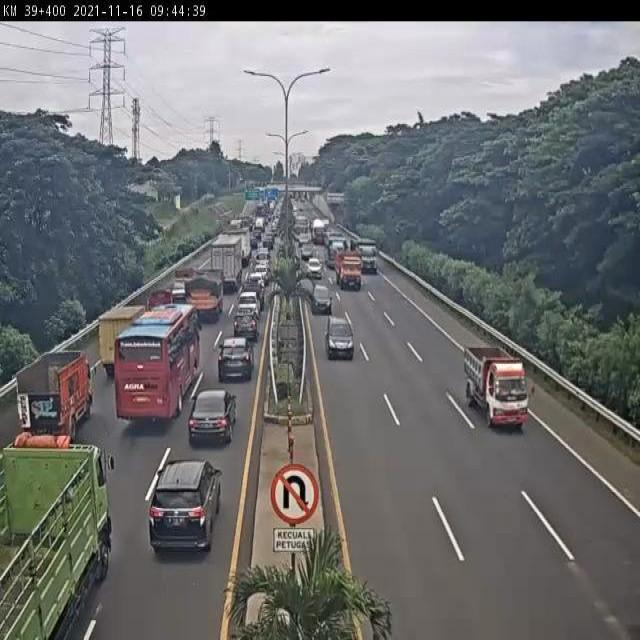big bus: (114, 307, 197, 420)
car: (150, 461, 219, 556), (188, 393, 234, 451), (216, 340, 254, 383), (326, 317, 355, 359), (233, 309, 257, 342), (309, 283, 331, 313), (243, 279, 264, 308), (237, 292, 259, 316)
small truck: (463, 347, 527, 432), (97, 305, 146, 379)
truck-l-: (0, 445, 116, 640), (212, 235, 242, 288)
truck-m-: (14, 352, 94, 439), (183, 264, 224, 316)
